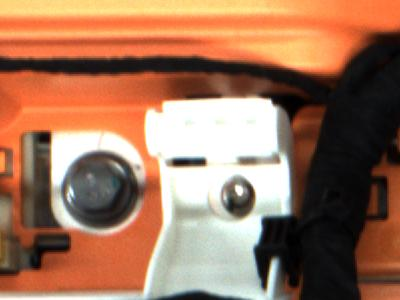nut_b: (58, 151, 145, 234)
